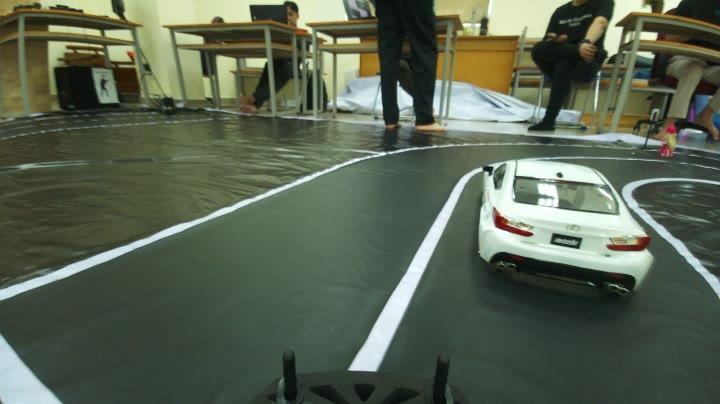car: (470, 152, 652, 297)
